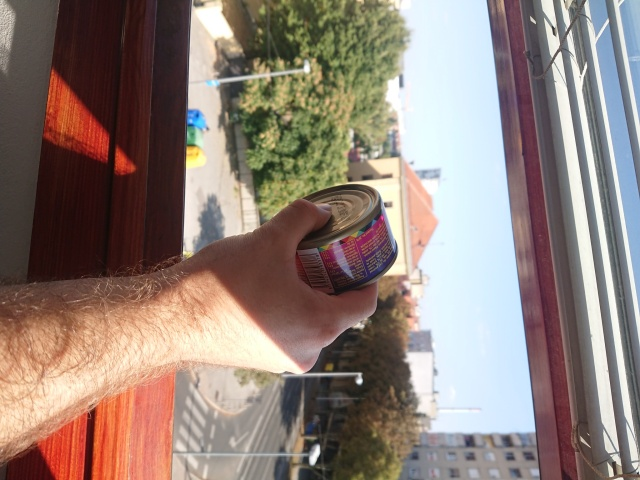Giana Tuna Salad Mexico 185g: (276, 181, 400, 298)
